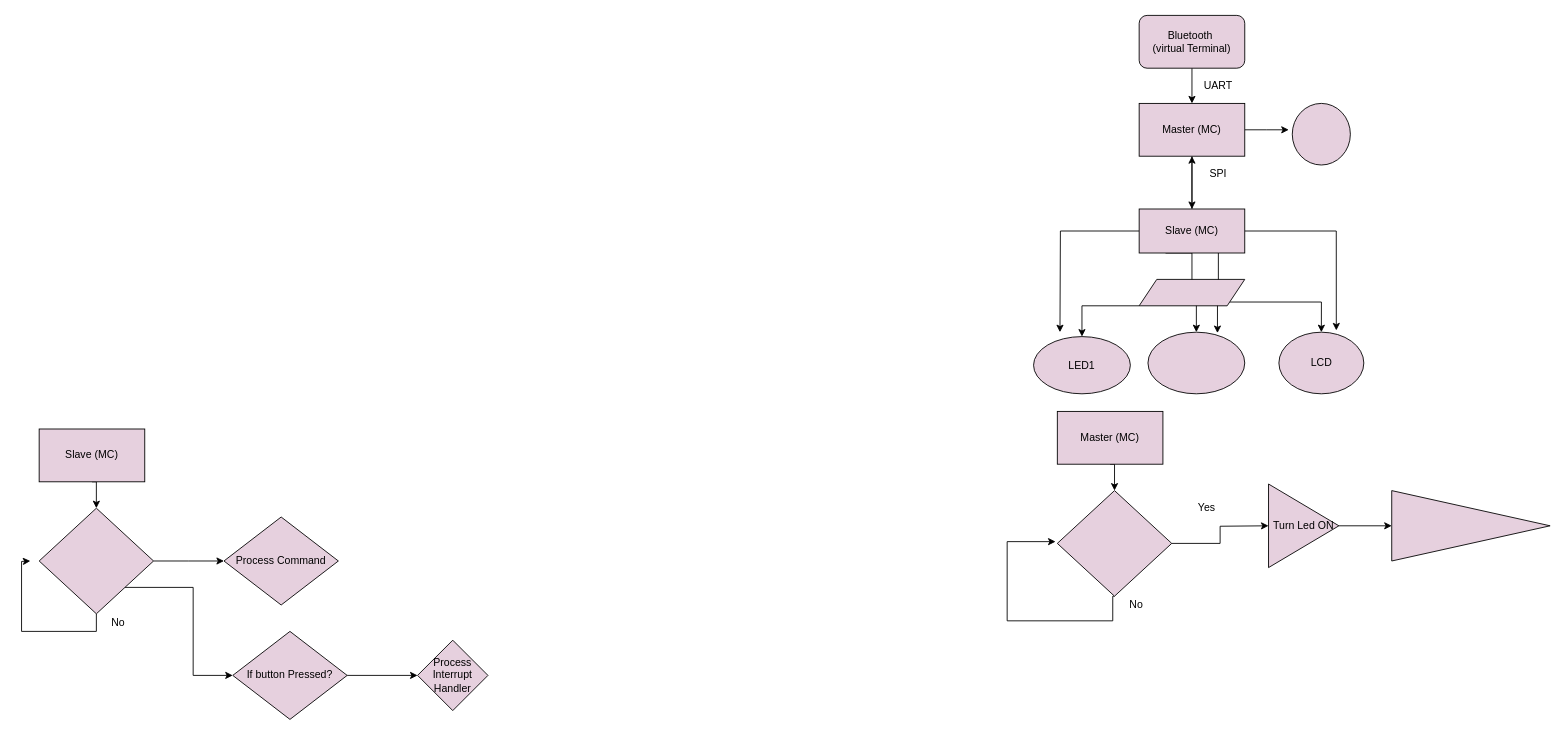
This 1566x735 diagram has some shape labels left out. The centre of each missing label's shape, as x and y in pixels:
"Interrupt" belongs at point (1191, 292).
"Led" belongs at point (1320, 134).
"LED2" belongs at point (1196, 362).
"Send to Slave using SPI" belongs at point (1470, 525).
"wait to rec From Bluetooth using UART" belongs at point (1114, 543).
"wait to rec from Master using SPI (& send dummy data)" belongs at point (96, 560).
